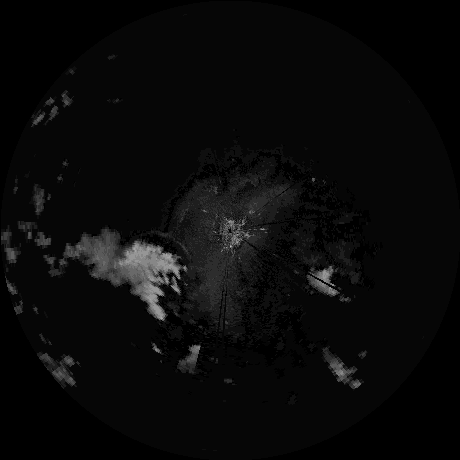frontgust: (146, 227, 192, 260)
